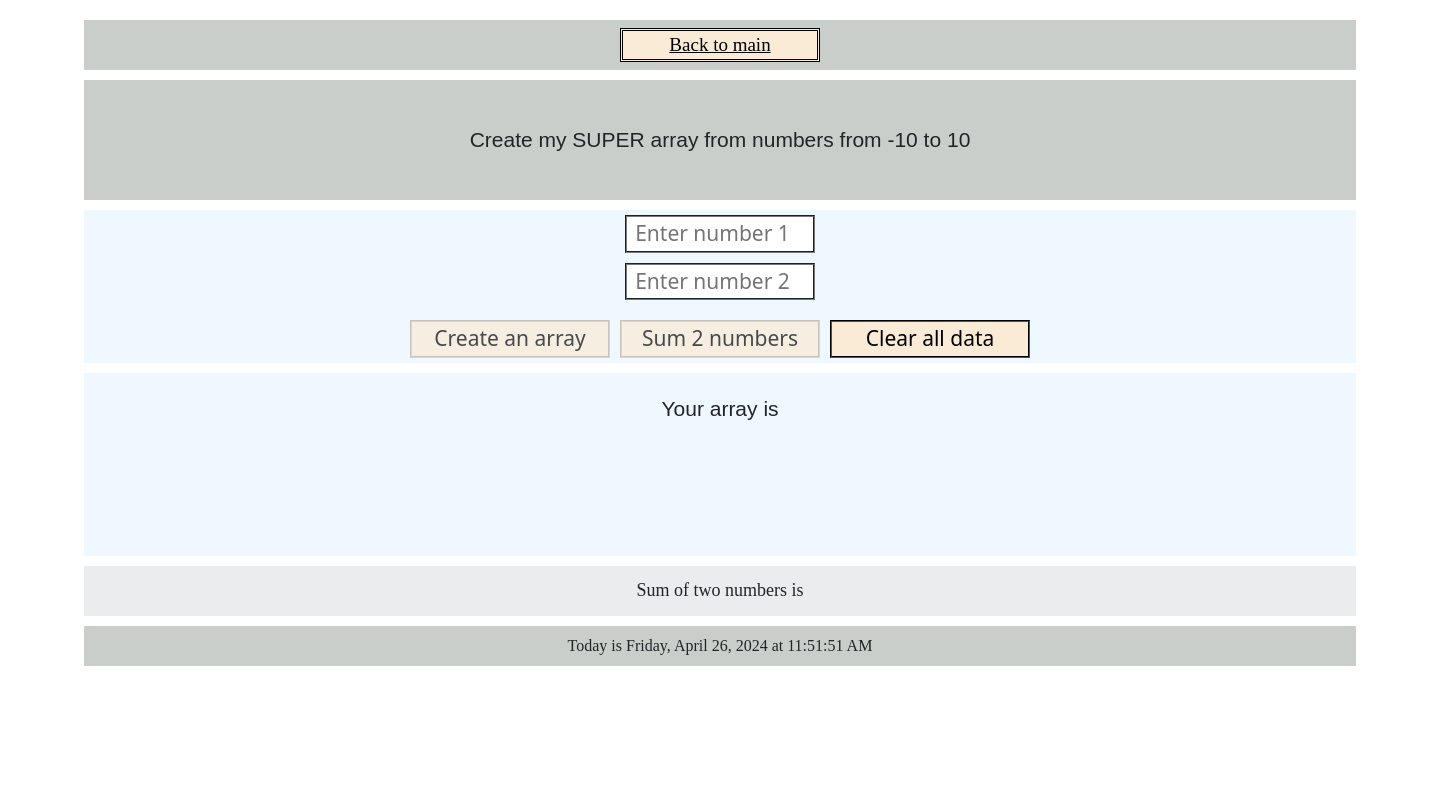
Test case: check options - typing two items › input second item less than required
This screenshot has width=1440, height=800.
In the number field with id "num1": [720, 234] box [625, 215, 815, 253], type "-9"
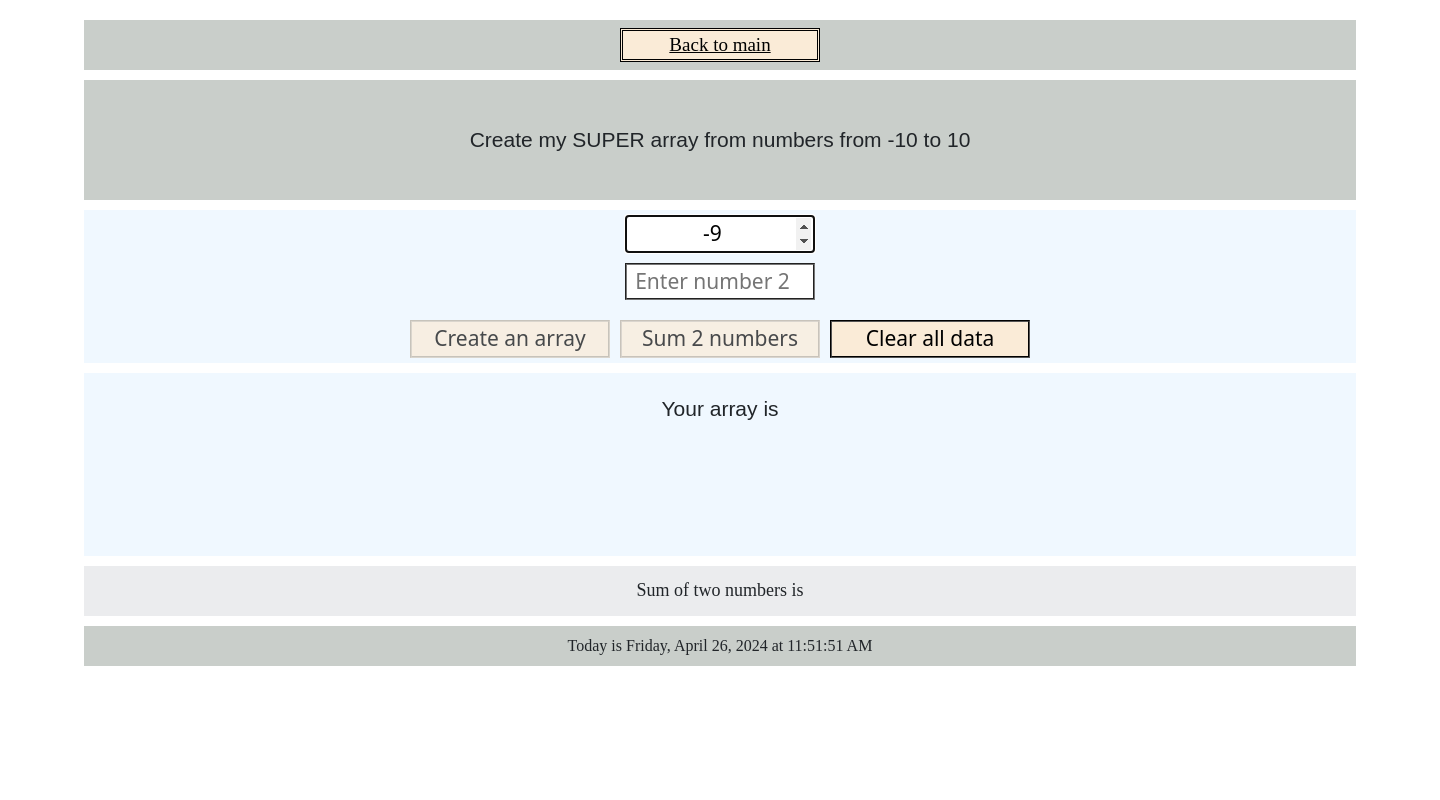
In the number field with id "num2": [720, 282] box [625, 263, 815, 301], type "-11"
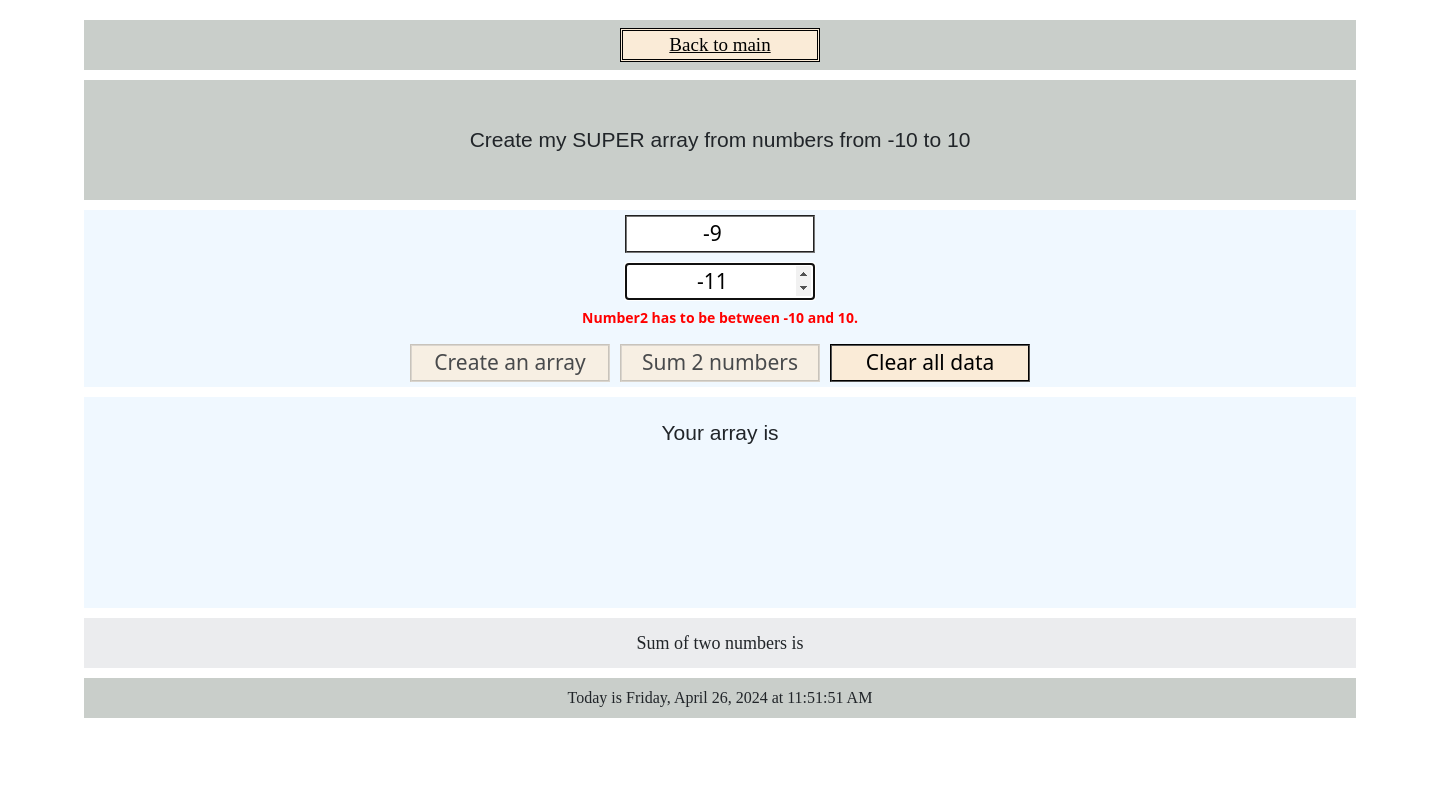
Check: the button with id "createArray" is disabled, box [410, 344, 610, 382]
Check: the text with id "invalidItem2" reads "Number2 has to be between -10 and 10.", box [582, 308, 858, 327]
